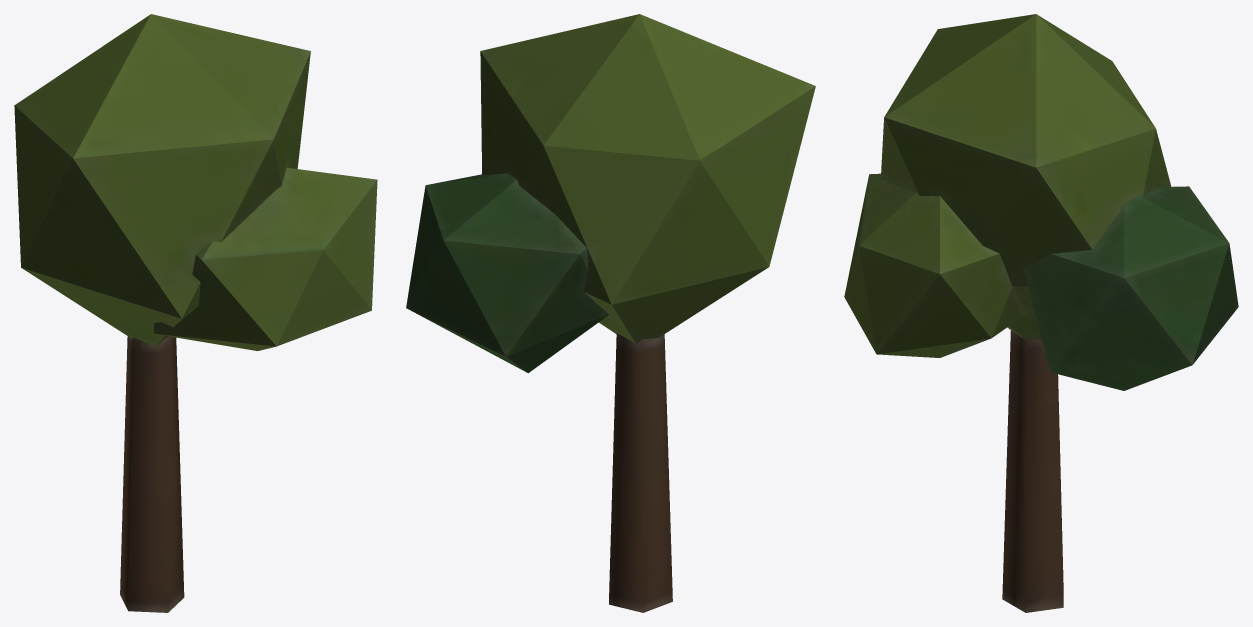
Rendered from tree_1.glb.
3 views of the same model, side by side, from view 1: azimuth 30°, elevation 25°; view 2: azimuth 150°, elevation 25°; view 3: azimuth 270°, elevation 25° (orthographic).
Parts seen in each view (by area): view 1: te_prop_tree_1; view 2: te_prop_tree_1; view 3: te_prop_tree_1.
Part boxes in pixels (left/top/right/bottom): te_prop_tree_1: left=14, top=14, right=377, bottom=612; te_prop_tree_1: left=406, top=14, right=815, bottom=612; te_prop_tree_1: left=844, top=14, right=1238, bottom=612.
Bounding box in the file's own units: 0.2514 × 0.457 × 0.2791.
1 material, 1 textured.
